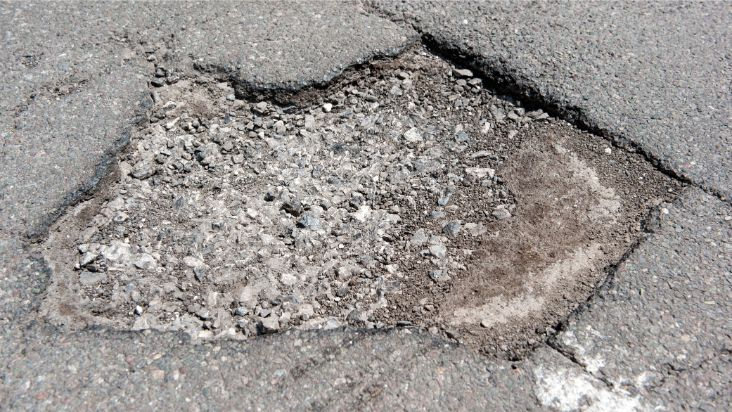pothole: (23, 27, 690, 369)
